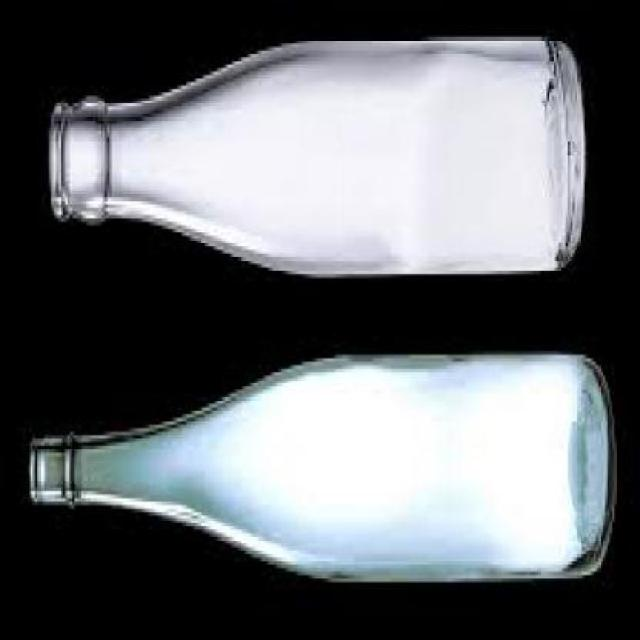glass: (29, 343, 616, 574), (44, 32, 584, 270)
